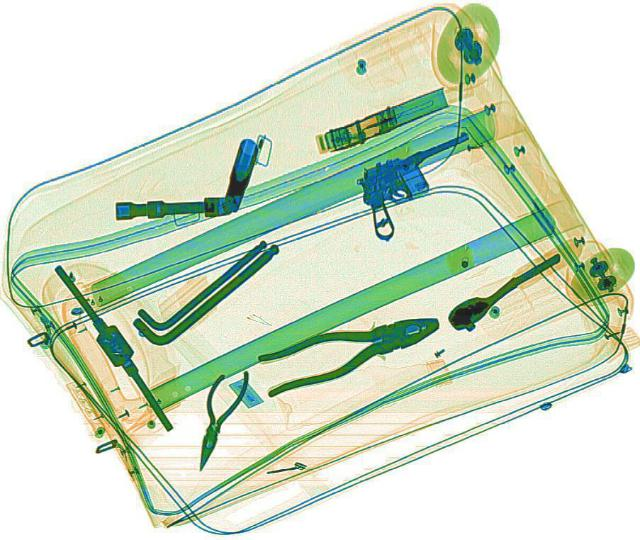Gun: (338, 128, 506, 241)
Pliers: (247, 298, 447, 395), (186, 362, 250, 473)
